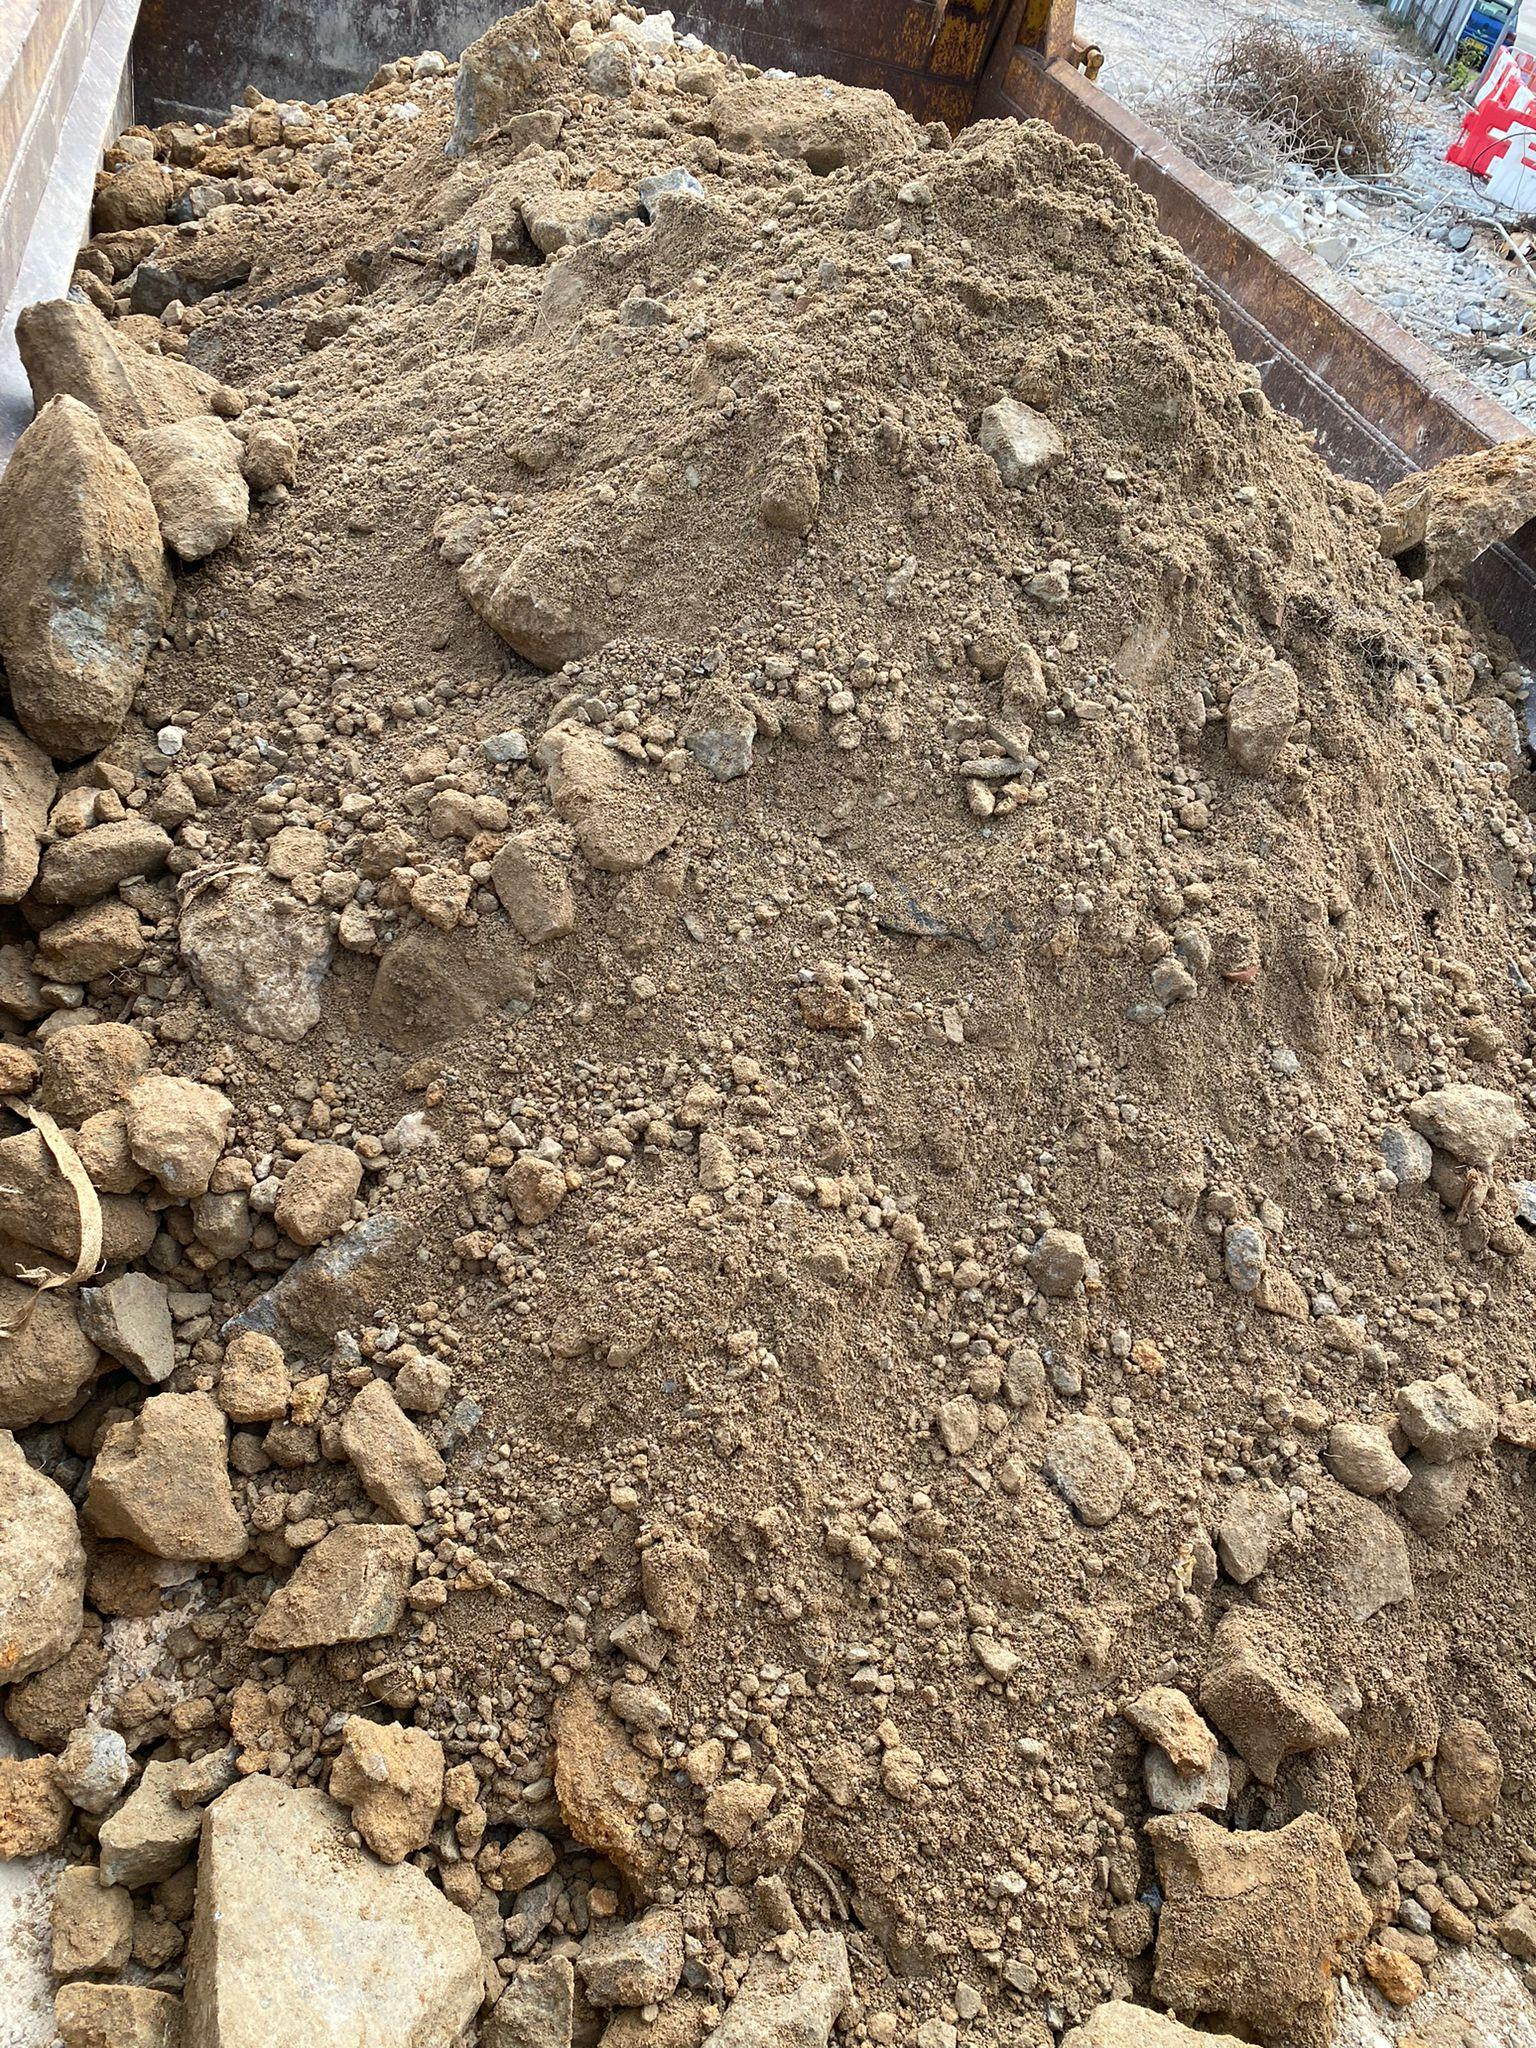dry: (0, 6, 1536, 2033)
